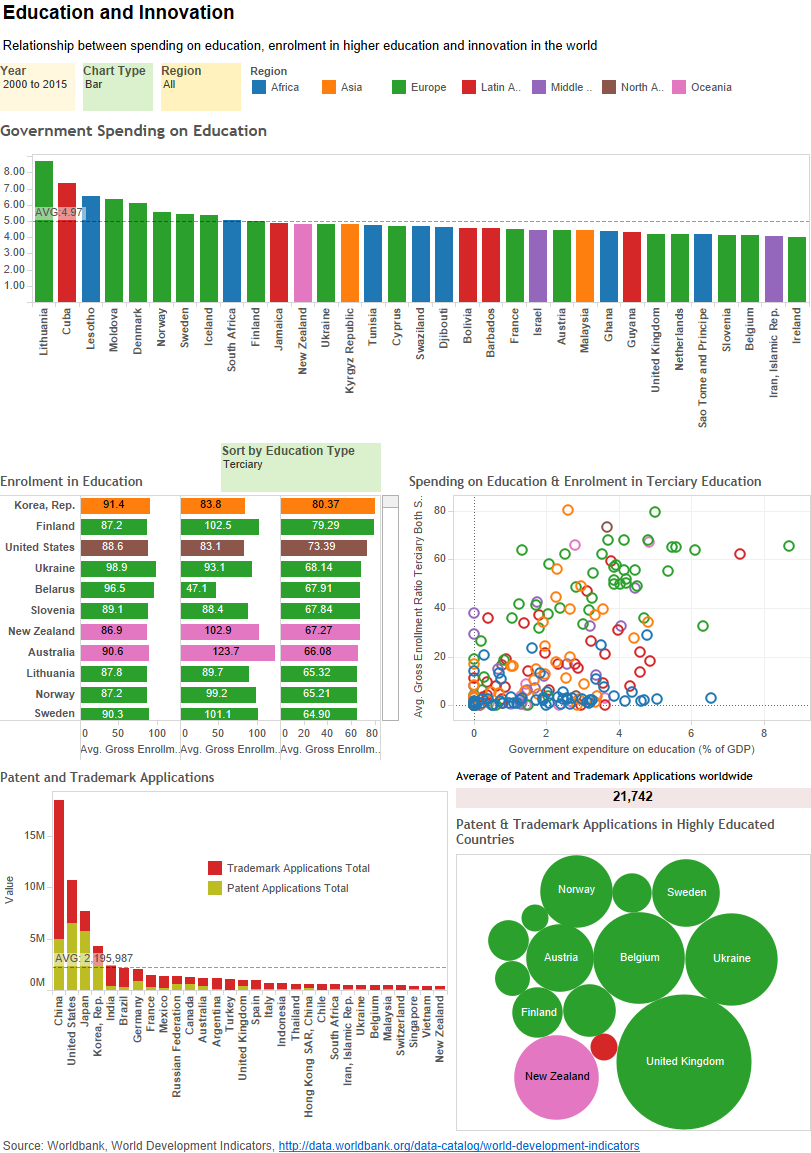

The dashboard page shown, as its layout file describes it:
{"tool":"tableau","page":{"name":"Dashboard","canvas":[827,1169],"ordinal":0},"visuals":[{"type":"text","box":[0,0,827,67]},{"type":"filter","title":"Gvt Spending on Education MAP","param":"[sqlproxy.04uhldh18eh91y13occx30zvwzio].[none:year:qk]","box":[0,67,87,56]},{"type":"parameter","param":"[Parameters].[Country Parameter]","box":[87,67,78,56]},{"type":"filter","title":"Gvt Spending on Education BAR","param":"[sqlproxy.04uhldh18eh91y13occx30zvwzio].[none:region:nk]","box":[165,67,88,56]},{"type":"legend","title":"Spending on Edu vs Terciarty Scatter","param":"[sqlproxy.04uhldh18eh91y13occx30zvwzio].[none:region:nk]","box":[253,67,574,42]},{"type":"worksheet","title":"Gvt Spending on Education MAP","mark":"Automatic","box":[0,123,827,35]},{"type":"worksheet","title":"Gvt Spending on Education BAR","mark":"Automatic","rows":["Calculation_36521426804232197"],"cols":["country"],"box":[0,158,827,318]},{"type":"parameter","param":"[Parameters].[Chart Type (copy)]","box":[229,451,160,49]},{"type":"worksheet","title":"Enrolment in Education","mark":"Automatic","rows":["country"],"cols":["gross_enrollment_ratio_primary_both_sexes","gross_enrollment_ratio_secondary_both_sexes","gross_enrollment_ratio_terciary_both_sexes"],"box":[0,476,413,296]},{"type":"worksheet","title":"Spending on Edu vs Terciarty Scatter","mark":"Automatic","rows":["gross_enrollment_ratio_terciary_both_sexes"],"cols":["Calculation_36521426804232197"],"box":[413,476,410,296]},{"type":"worksheet","title":"Patent and Trademark BAR","mark":"Bar","cols":["country"],"box":[0,772,460,371]},{"type":"worksheet","title":"AVG Patent and Trademark apps","mark":"Automatic","box":[460,772,367,48]},{"type":"worksheet","title":"Educated Countries","mark":"Circle","box":[460,820,367,323]},{"type":"legend","title":"Patent and Trademark BAR","param":"[sqlproxy.04uhldh18eh91y13occx30zvwzio].[:Measure Names]","box":[213,866,169,40]},{"type":"text","box":[0,1143,827,26]}]}

Visuals, with their boxes in screenshot pixels (x1, y1, x2, y2), scaled from the page's 827x1169 canvas onto the 811x1153 screenshot:
text: rect(0, 0, 810, 66)
"Gvt Spending on Education MAP" filter: rect(0, 66, 85, 121)
parameter: rect(85, 66, 162, 121)
"Gvt Spending on Education BAR" filter: rect(162, 66, 248, 121)
"Spending on Edu vs Terciarty Scatter" legend: rect(248, 66, 810, 108)
"Gvt Spending on Education MAP" worksheet: rect(0, 121, 810, 156)
"Gvt Spending on Education BAR" worksheet: rect(0, 156, 810, 469)
parameter: rect(225, 445, 381, 493)
"Enrolment in Education" worksheet: rect(0, 469, 405, 761)
"Spending on Edu vs Terciarty Scatter" worksheet: rect(405, 469, 807, 761)
"Patent and Trademark BAR" worksheet (Bar marks): rect(0, 761, 451, 1127)
"AVG Patent and Trademark apps" worksheet: rect(451, 761, 810, 809)
"Educated Countries" worksheet (Circle marks): rect(451, 809, 810, 1127)
"Patent and Trademark BAR" legend: rect(209, 854, 375, 894)
text: rect(0, 1127, 810, 1152)
